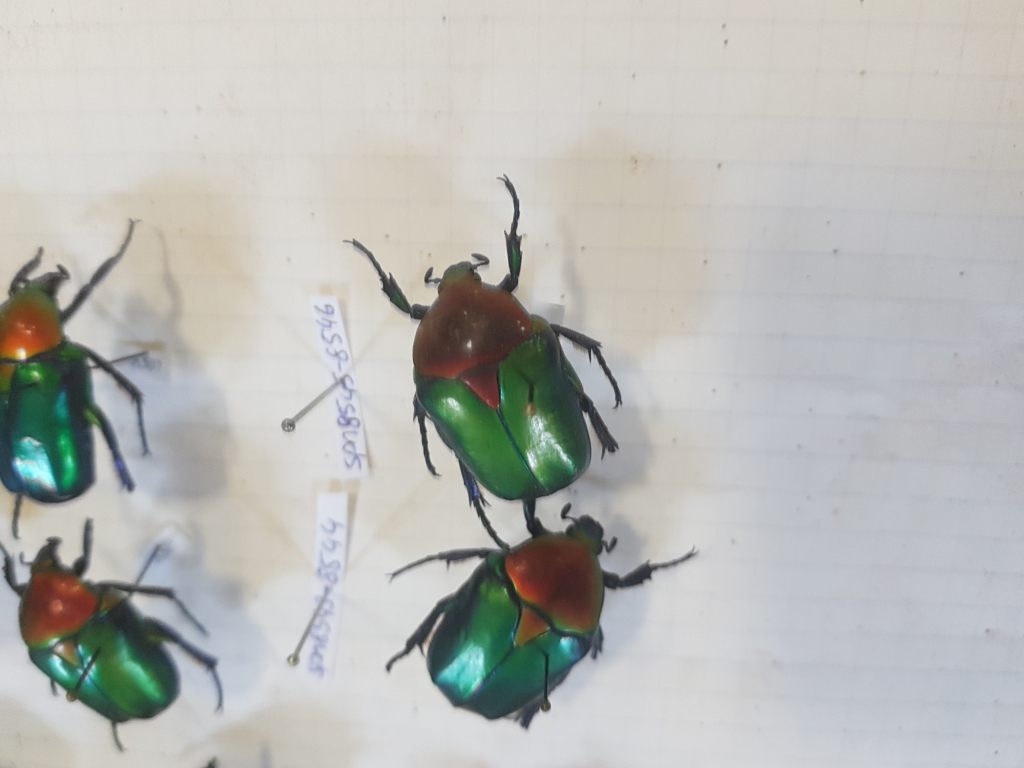Protaetia_speciosa_jousseliniw: (331, 165, 620, 534), (379, 488, 738, 725)
